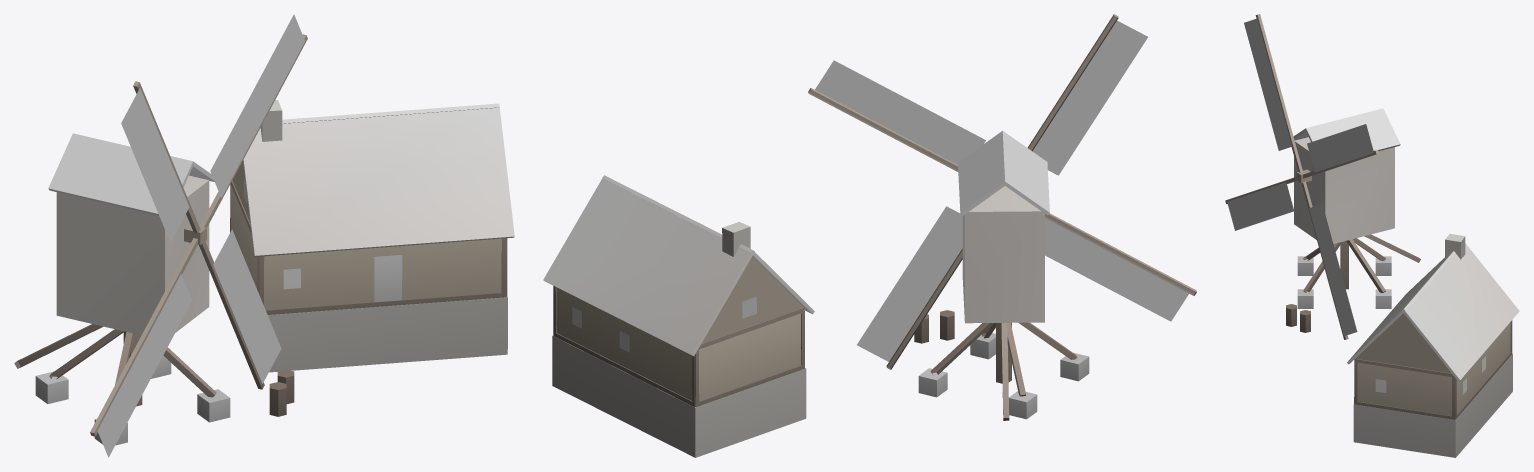
File: mill_1.glb
3 views of the same model, side by side, from view 1: azimuth 30°, elevation 25°; view 2: azimuth 150°, elevation 25°; view 3: azimuth 270°, elevation 25° (orthographic). The views are drawn at different scales.
Parts seen in each view (by area): view 1: mill_1; view 2: mill_1; view 3: mill_1.
Part boxes in pixels (<box>): mill_1: <box>14,14,514,457</box>; mill_1: <box>543,14,1196,457</box>; mill_1: <box>1225,14,1519,457</box>.
Size of the model in its own units: 24.44 by 17.78 by 16.62.
